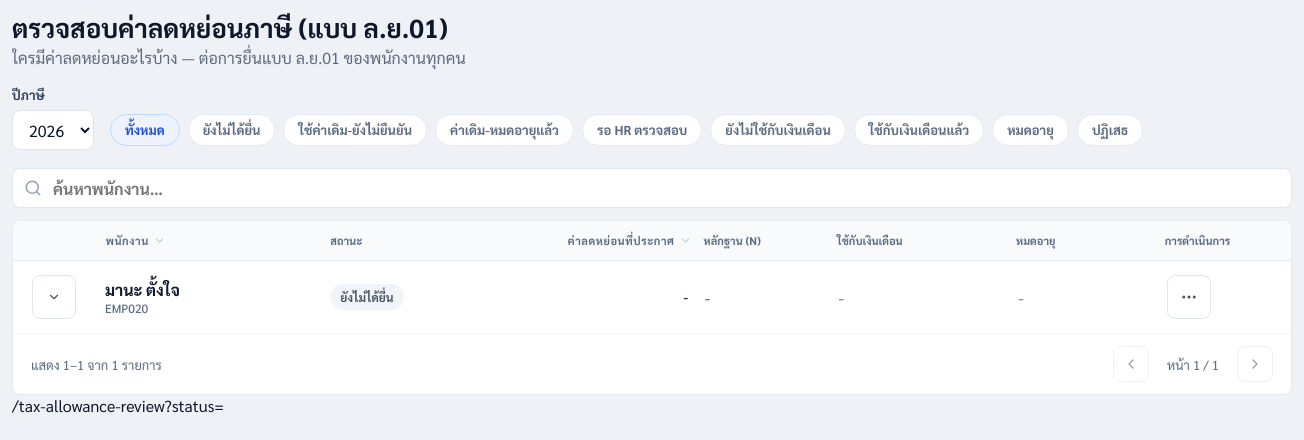
Test: TaxAllowanceReviewPage › row menu — ยื่นแทนพนักงาน placement › keeps ยื่นแทนพนักงาน as the only action on NONE — the only path in for staff who never log in
The width and height of the screenshot is (1304, 440).
Click the button named "การดำเนินการสำหรับ มานะ ตั้งใจ". click: (1189, 297)
box: left=1167, top=275, right=1211, bottom=319
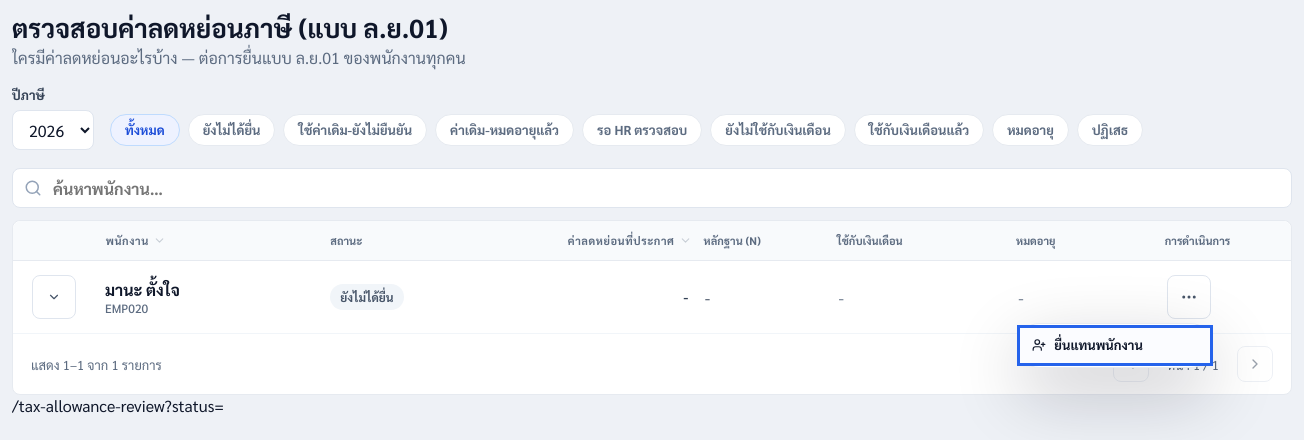
Check: the number of menu items is 1, box left=1020, top=328, right=1210, bottom=363
Check: the menu item reads "ยื่นแทนพนักงาน", box left=1020, top=328, right=1210, bottom=363
